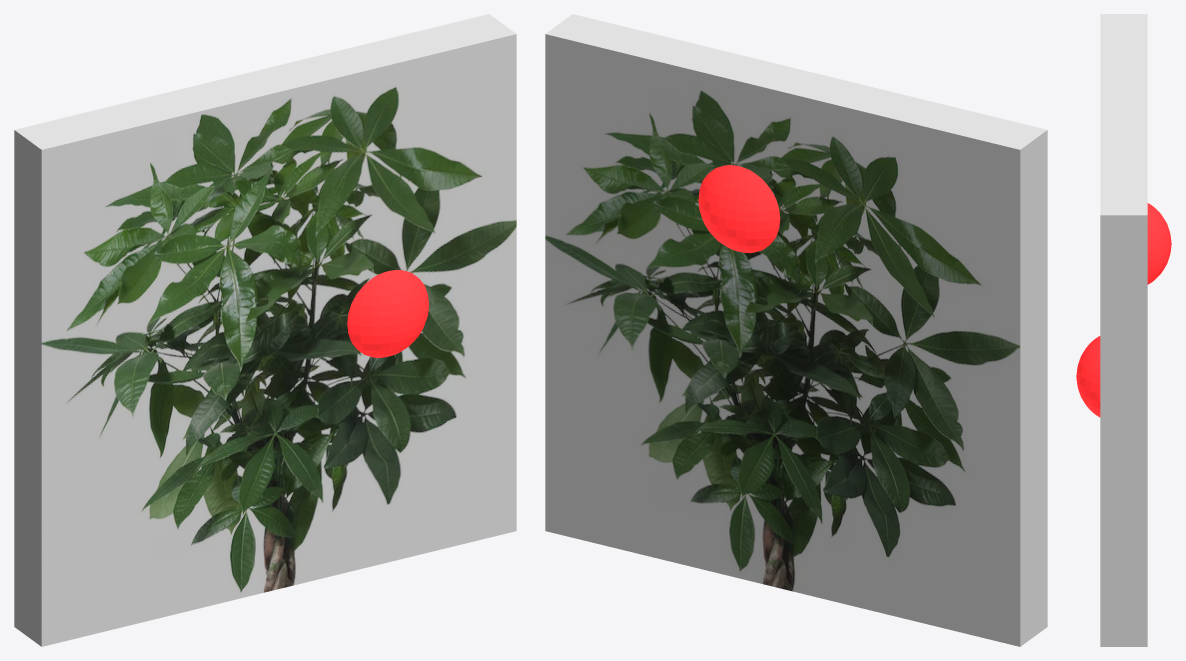
Rendered from tomato_7.dae.
3 views of the same model, side by side, from view 1: azimuth 30°, elevation 25°; view 2: azimuth 150°, elevation 25°; view 3: azimuth 270°, elevation 25° (orthographic). The views are drawn at different scales.
Visible parts, largest first — view 1: Cube, Sphere; view 2: Cube, Sphere.003; view 3: Cube, Sphere.003, Sphere.
Part boxes in pixels (box(x1,y1,x2,y2)): Cube: box(14, 14, 516, 646); Sphere: box(347, 270, 428, 357); Cube: box(545, 14, 1047, 646); Sphere.003: box(698, 165, 780, 253); Cube: box(1100, 14, 1147, 646); Sphere.003: box(1147, 203, 1171, 284); Sphere: box(1076, 336, 1100, 417).
Size of the model in its own units: 1 by 0.2 by 1.
Materials: 3 (1 with a texture image).
